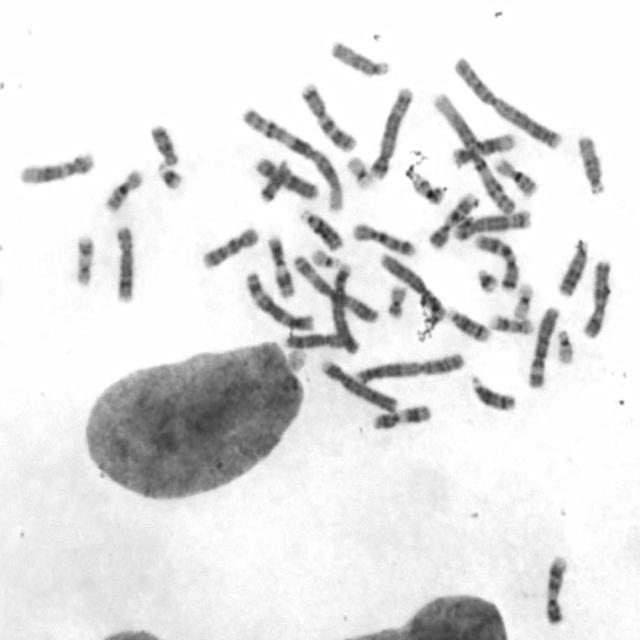A1: (238, 105, 346, 213), (430, 89, 517, 217)
A2: (451, 54, 563, 151), (350, 348, 466, 385)
A3: (290, 250, 380, 324), (242, 268, 317, 332)
B4: (317, 355, 399, 414), (330, 260, 360, 355)
B5: (367, 83, 414, 180), (451, 206, 533, 242)
C10: (198, 223, 262, 271), (349, 219, 418, 257)
C11: (264, 231, 296, 300), (370, 401, 432, 431)
C12: (15, 146, 98, 187), (448, 129, 516, 169)
C6: (377, 247, 447, 322), (524, 302, 561, 391)
C7: (297, 78, 358, 154), (472, 231, 521, 293)
C8: (112, 221, 137, 305), (280, 327, 358, 353)
C9: (424, 189, 481, 251), (541, 552, 569, 626)
D13: (554, 234, 590, 299), (297, 205, 345, 253)
D14: (444, 302, 492, 344), (468, 371, 517, 412)
D15: (328, 37, 390, 78), (574, 130, 608, 197)
E16: (492, 153, 540, 200), (101, 166, 144, 213)
E17: (70, 231, 96, 289), (486, 310, 535, 336)
E18: (255, 156, 293, 204), (147, 120, 181, 168)
F19: (342, 153, 374, 191), (510, 279, 534, 321)
F20: (407, 168, 450, 206), (384, 281, 408, 319)
G21: (154, 159, 186, 190), (474, 264, 499, 294)
G22: (553, 325, 576, 366), (308, 246, 343, 270)
X: (251, 154, 319, 202), (579, 256, 613, 340)
